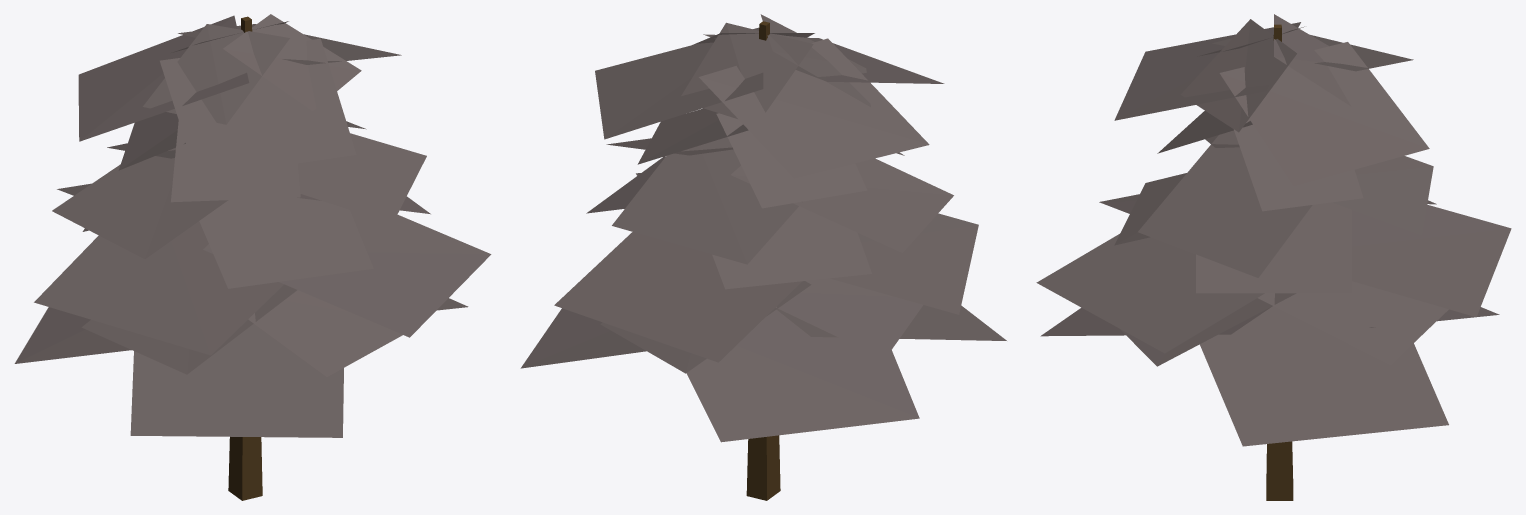
File: obj_plant_6_0.obj
3 renders of one model, left to right at view 1: azimuth 30°, elevation 25°; view 2: azimuth 150°, elevation 25°; view 3: azimuth 270°, elevation 25°, orthographic.
Size of the model in its own units: 0.9375 by 1.04 by 0.9531.
